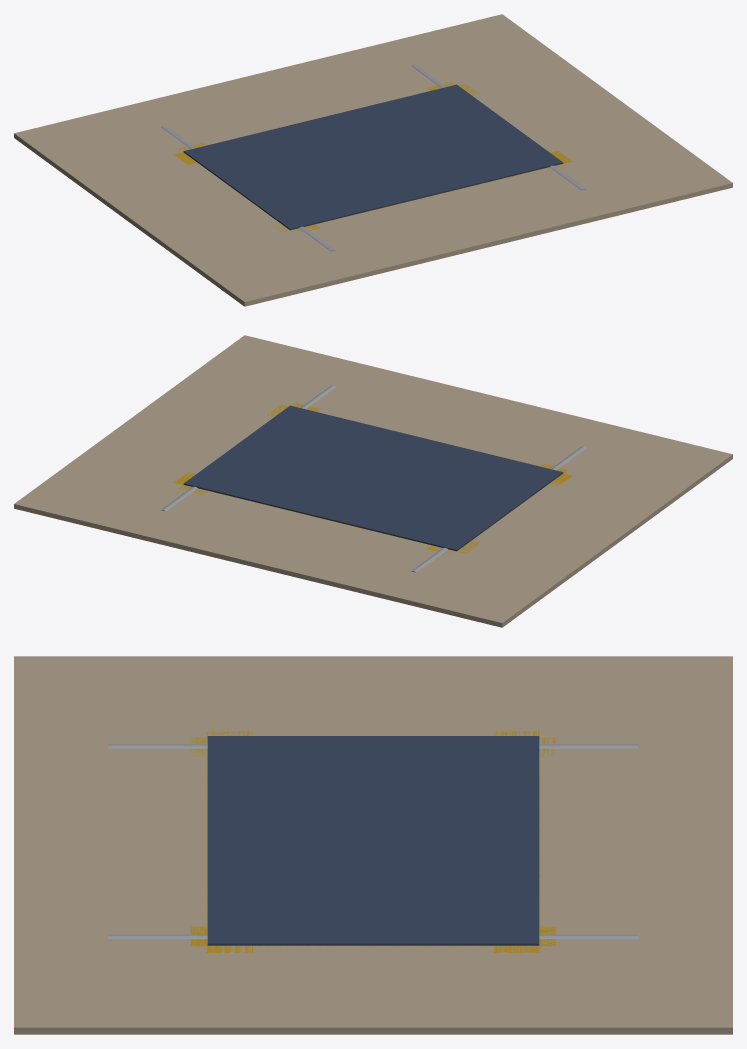
File: stage_06_walls.glb
The picture shows the model from 3 angles, top to bottom: view 1: azimuth 30°, elevation 25°; view 2: azimuth 150°, elevation 25°; view 3: azimuth 270°, elevation 25°; orthographic projection. The views are drawn at different scales.
Parts seen in each view (by area): view 1: world; view 2: world; view 3: world.
Part boxes in pixels (left/top/right/bottom): world: left=14, top=14, right=732, bottom=306; world: left=14, top=335, right=732, bottom=627; world: left=14, top=656, right=732, bottom=1034.
Bounding box in the file's own units: 11 × 0.83 × 9.
